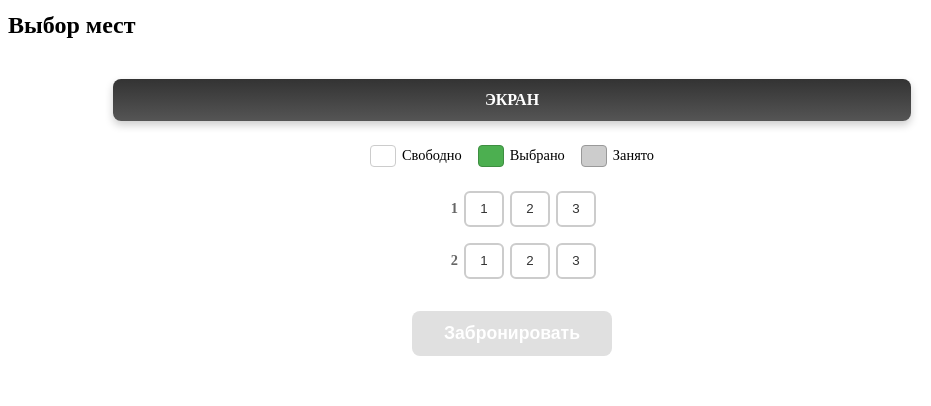
Test case: Booking › allows selecting a seat and enables booking button
Expected: the button with class "booking__button" is disabled, [412,311,612,356]
Step 1. Click the 1st button with class "booking__seat" → coordinates (484, 209), box [464,191,504,227]
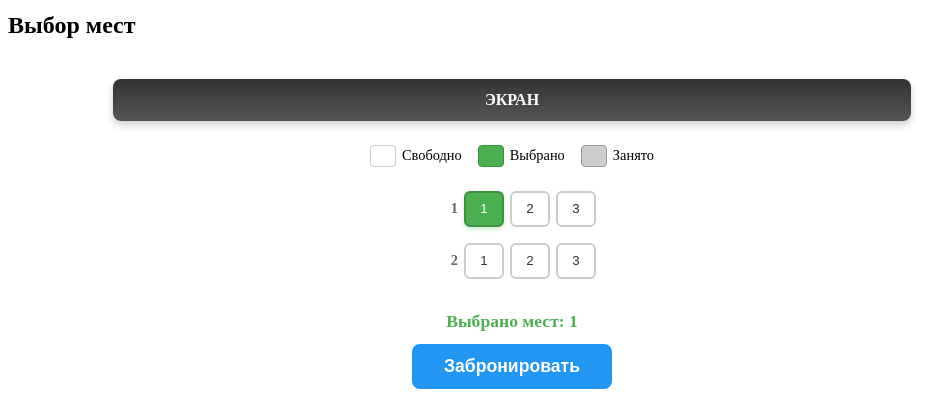
Expected: the text "Выбрано мест: 1" is shown, [446,311,578,332]
Expected: the button with class "booking__button" is enabled, [412,344,612,389]
